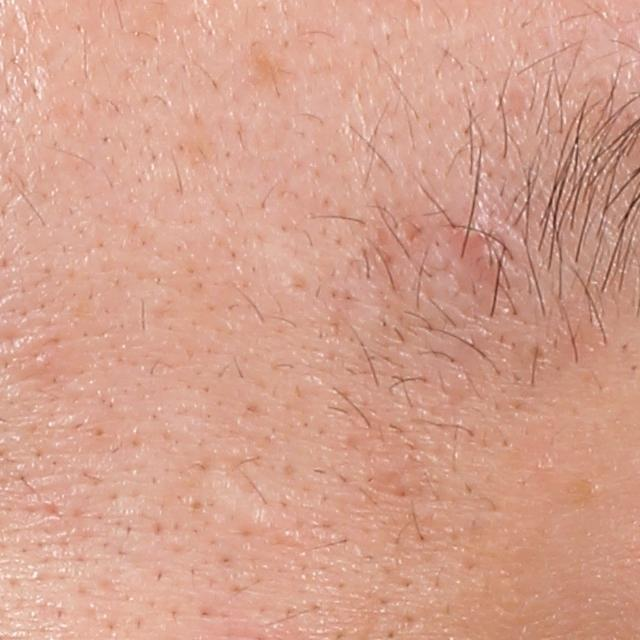atrophic_scar: (283, 267, 321, 302)
